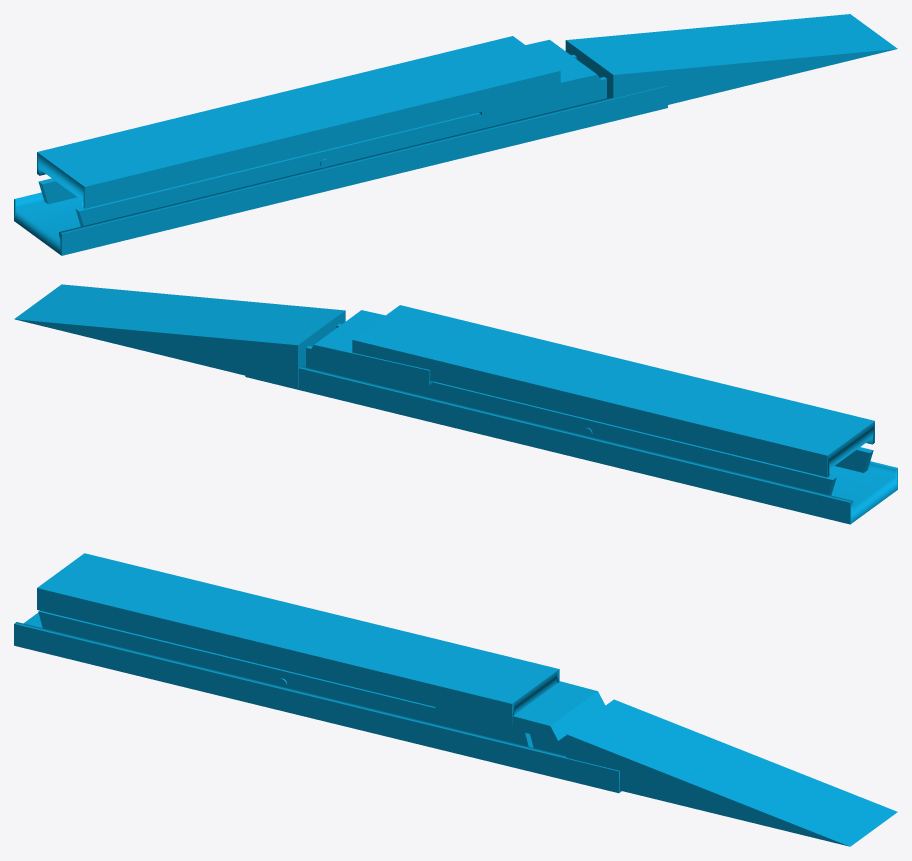
File: Car_Lift_02_Lod0.fbx
The picture shows the model from 3 angles, top to bottom: view 1: azimuth 30°, elevation 25°; view 2: azimuth 150°, elevation 25°; view 3: azimuth 330°, elevation 25°; orthographic projection.
Visible parts, largest first — view 1: Car_Lift_02_Lod0; view 2: Car_Lift_02_Lod0; view 3: Car_Lift_02_Lod0.
Part boxes in pixels (box(x1,y1,x2,y2)): Car_Lift_02_Lod0: box(14, 14, 897, 255); Car_Lift_02_Lod0: box(14, 284, 897, 524); Car_Lift_02_Lod0: box(14, 553, 897, 846).
Size of the model in its own units: 546 by 39.49 by 54.84.
